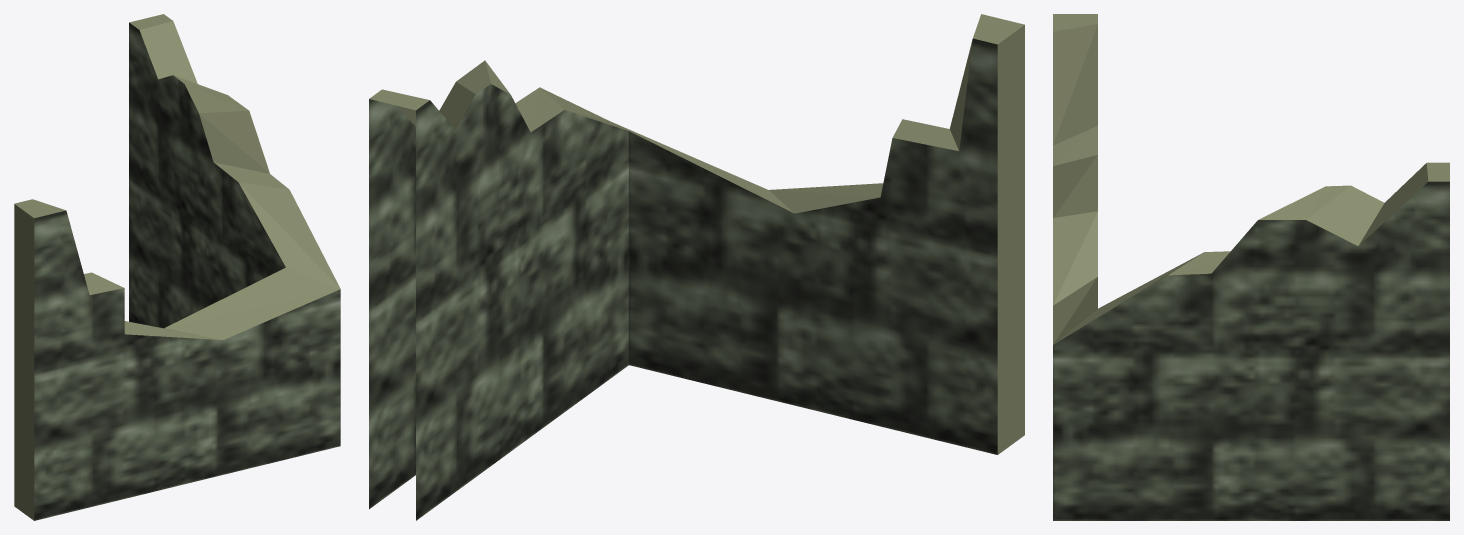
File: ruins_grid_17_1.glb
The picture shows the model from 3 angles, left to right: view 1: azimuth 30°, elevation 25°; view 2: azimuth 150°, elevation 25°; view 3: azimuth 270°, elevation 25°; orthographic projection. The views are drawn at different scales.
Parts seen in each view (by area): view 1: ruins_grid_17_1; view 2: ruins_grid_17_1; view 3: ruins_grid_17_1.
Boxes of the visible parts, <box> form: ruins_grid_17_1: <box>14,14,340,520</box>; ruins_grid_17_1: <box>369,14,1024,520</box>; ruins_grid_17_1: <box>1053,14,1449,520</box>.
Bounding box in the file's own units: 2.12 × 2 × 2.12.
2 materials, 1 textured.
